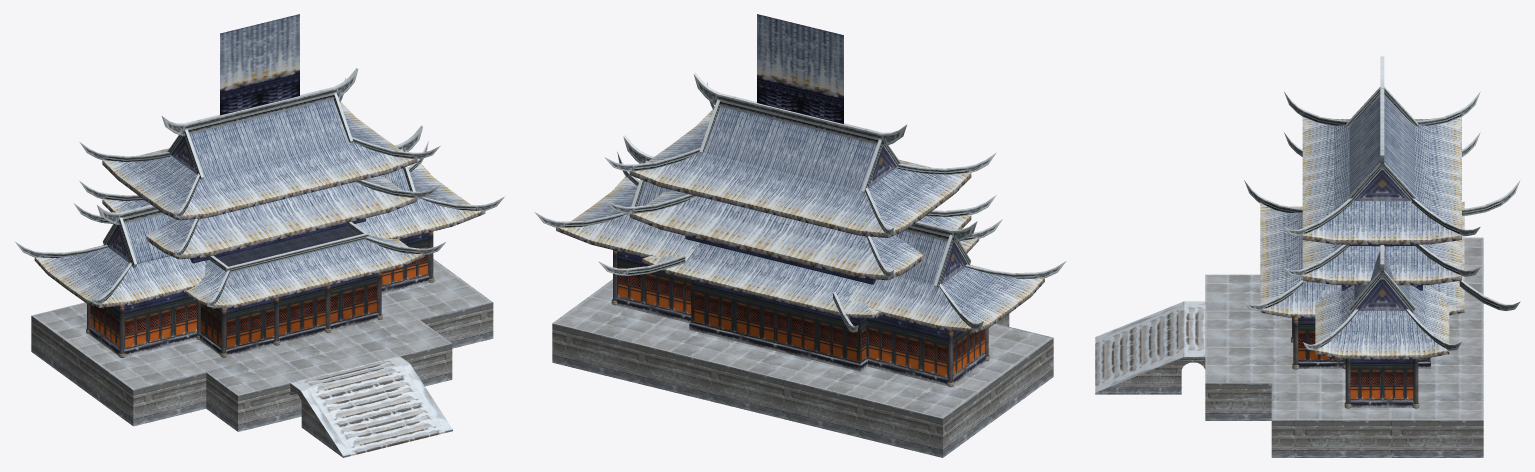
File: jz_tianjifeng.FBX
3 renders of one model, left to right at view 1: azimuth 30°, elevation 25°; view 2: azimuth 150°, elevation 25°; view 3: azimuth 270°, elevation 25°, orthographic. The views are drawn at different scales.
Visible parts, largest first — view 1: jz_tianjifeng_01, jz_tianjifeng_02; view 2: jz_tianjifeng_01, jz_tianjifeng_02; view 3: jz_tianjifeng_01, jz_tianjifeng_02.
Part boxes in pixels (x1,y1,x2,y2): jz_tianjifeng_01: [15, 14, 504, 358]; jz_tianjifeng_02: [31, 259, 493, 457]; jz_tianjifeng_01: [534, 14, 1066, 387]; jz_tianjifeng_02: [552, 279, 1053, 457]; jz_tianjifeng_01: [1244, 56, 1520, 408]; jz_tianjifeng_02: [1095, 237, 1483, 457].
Size of the model in its own units: 4907 by 3617 by 4197.
